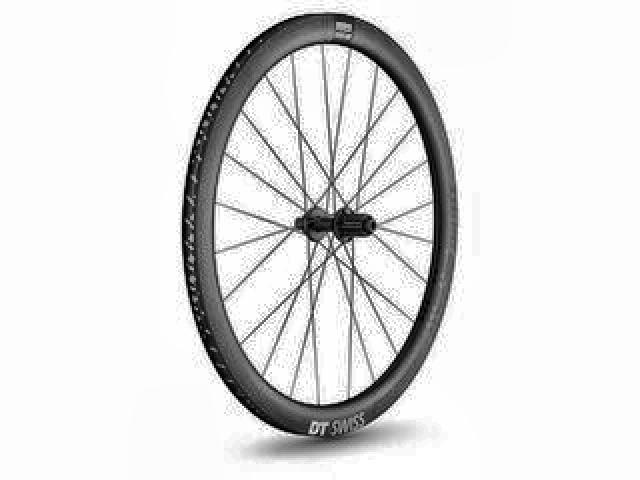wheel: (168, 7, 463, 447)
